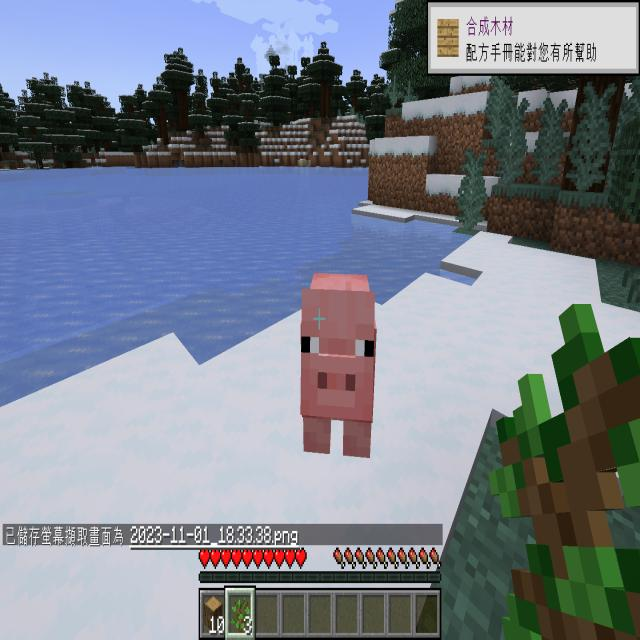pig: (292, 251, 415, 469)
